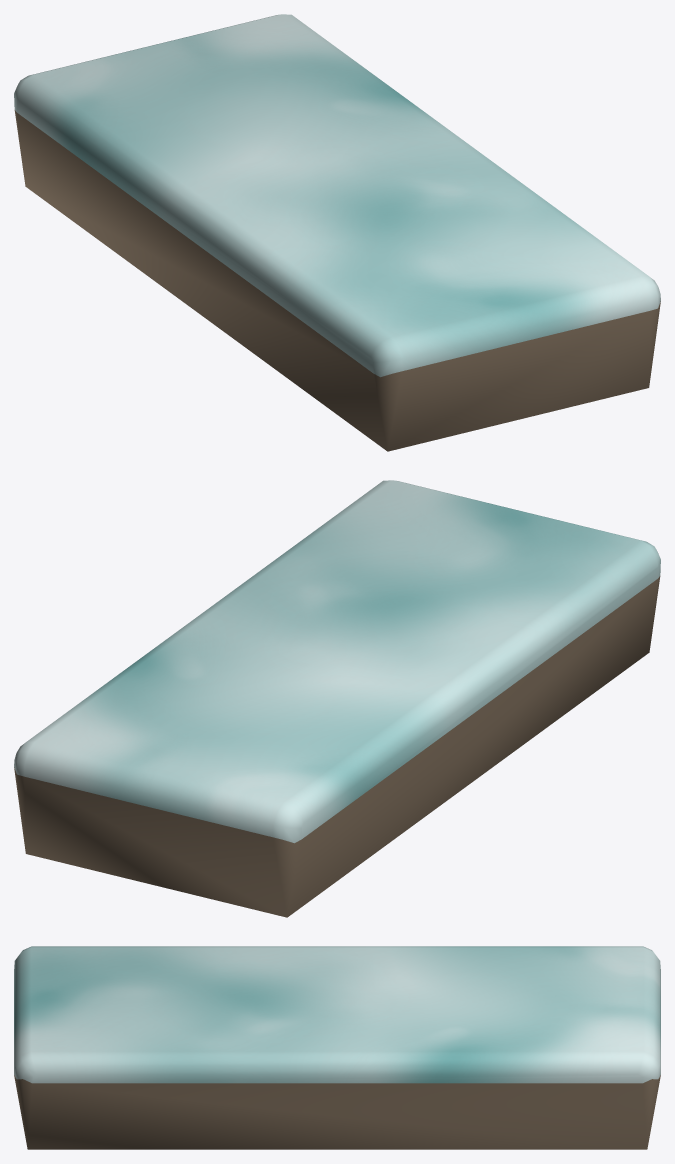
File: SnowCliffPlateau.fbx
The picture shows the model from 3 angles, top to bottom: view 1: azimuth 30°, elevation 25°; view 2: azimuth 150°, elevation 25°; view 3: azimuth 270°, elevation 25°; orthographic projection. The views are drawn at different scales.
Parts seen in each view (by area): view 1: SnowCliffPlateau; view 2: SnowCliffPlateau; view 3: SnowCliffPlateau.
Boxes of the visible parts, <box> form: SnowCliffPlateau: <box>14,14,660,451</box>; SnowCliffPlateau: <box>14,480,660,917</box>; SnowCliffPlateau: <box>14,946,660,1149</box>.
Size of the model in its own units: 63.4 by 146 by 23.79.
